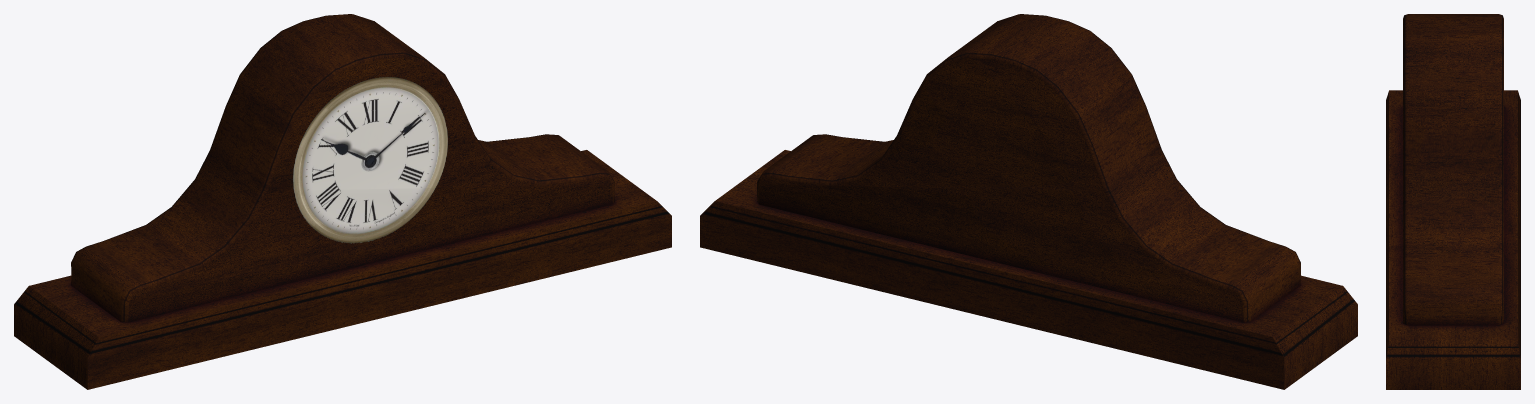
File: MantelClock01.FBX
3 views of the same model, side by side, from view 1: azimuth 30°, elevation 25°; view 2: azimuth 150°, elevation 25°; view 3: azimuth 270°, elevation 25° (orthographic). The views are drawn at different scales.
Visible parts, largest first — view 1: MantelClock01; view 2: MantelClock01; view 3: MantelClock01.
Part boxes in pixels (<box>): MantelClock01: <box>14,14,671,389</box>; MantelClock01: <box>700,14,1357,389</box>; MantelClock01: <box>1386,14,1520,389</box>.
Size of the model in its own units: 51.96 by 21.68 by 11.33.
